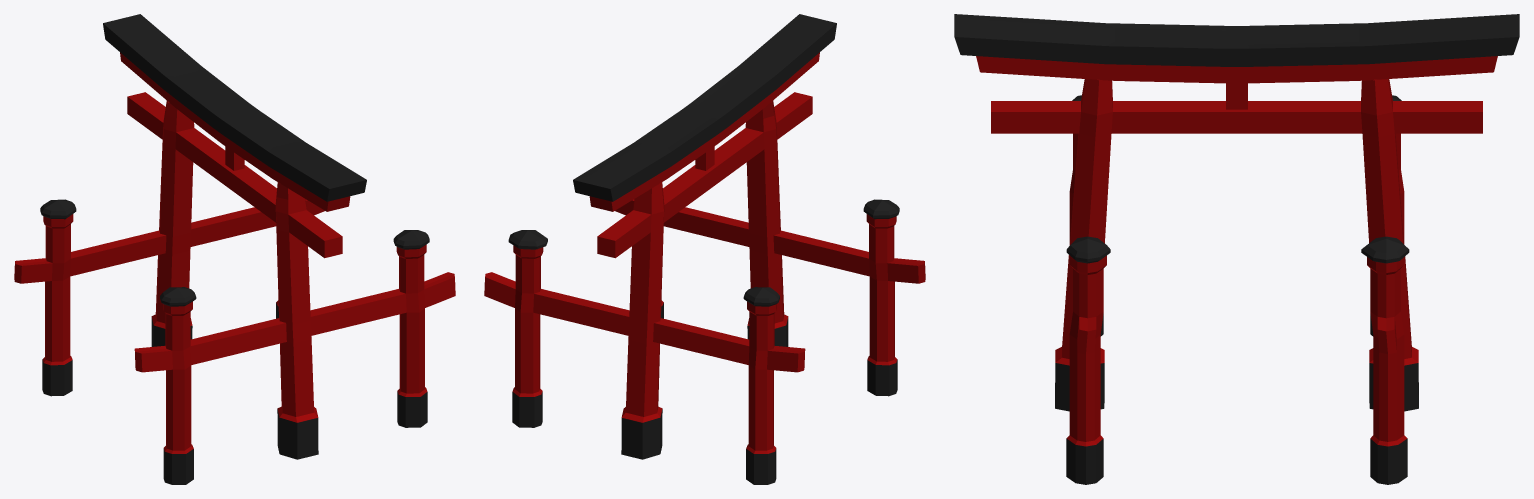
Rendered from Shrine_Gate_4.fbx.
The picture shows the model from 3 angles, left to right: view 1: azimuth 30°, elevation 25°; view 2: azimuth 150°, elevation 25°; view 3: azimuth 270°, elevation 25°; orthographic projection. The views are drawn at different scales.
Parts seen in each view (by area): view 1: Shrine_Gate_4; view 2: Shrine_Gate_4; view 3: Shrine_Gate_4.
Part boxes in pixels (x1,y1,x2,y2): Shrine_Gate_4: (14, 14, 455, 484); Shrine_Gate_4: (484, 14, 925, 484); Shrine_Gate_4: (954, 14, 1519, 484).
Bounding box in the file's own units: 544 × 496 × 668.
